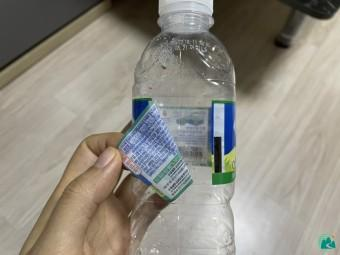plastic_bottle: (129, 1, 239, 255)
